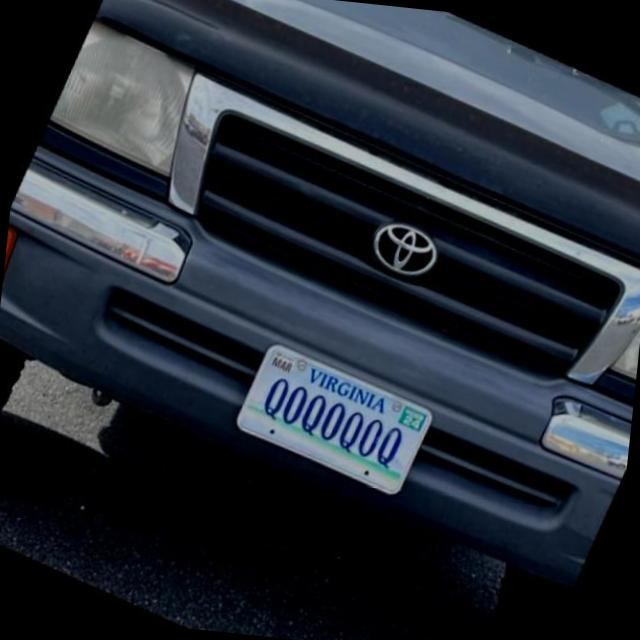LicensePlate: (233, 340, 433, 494)
